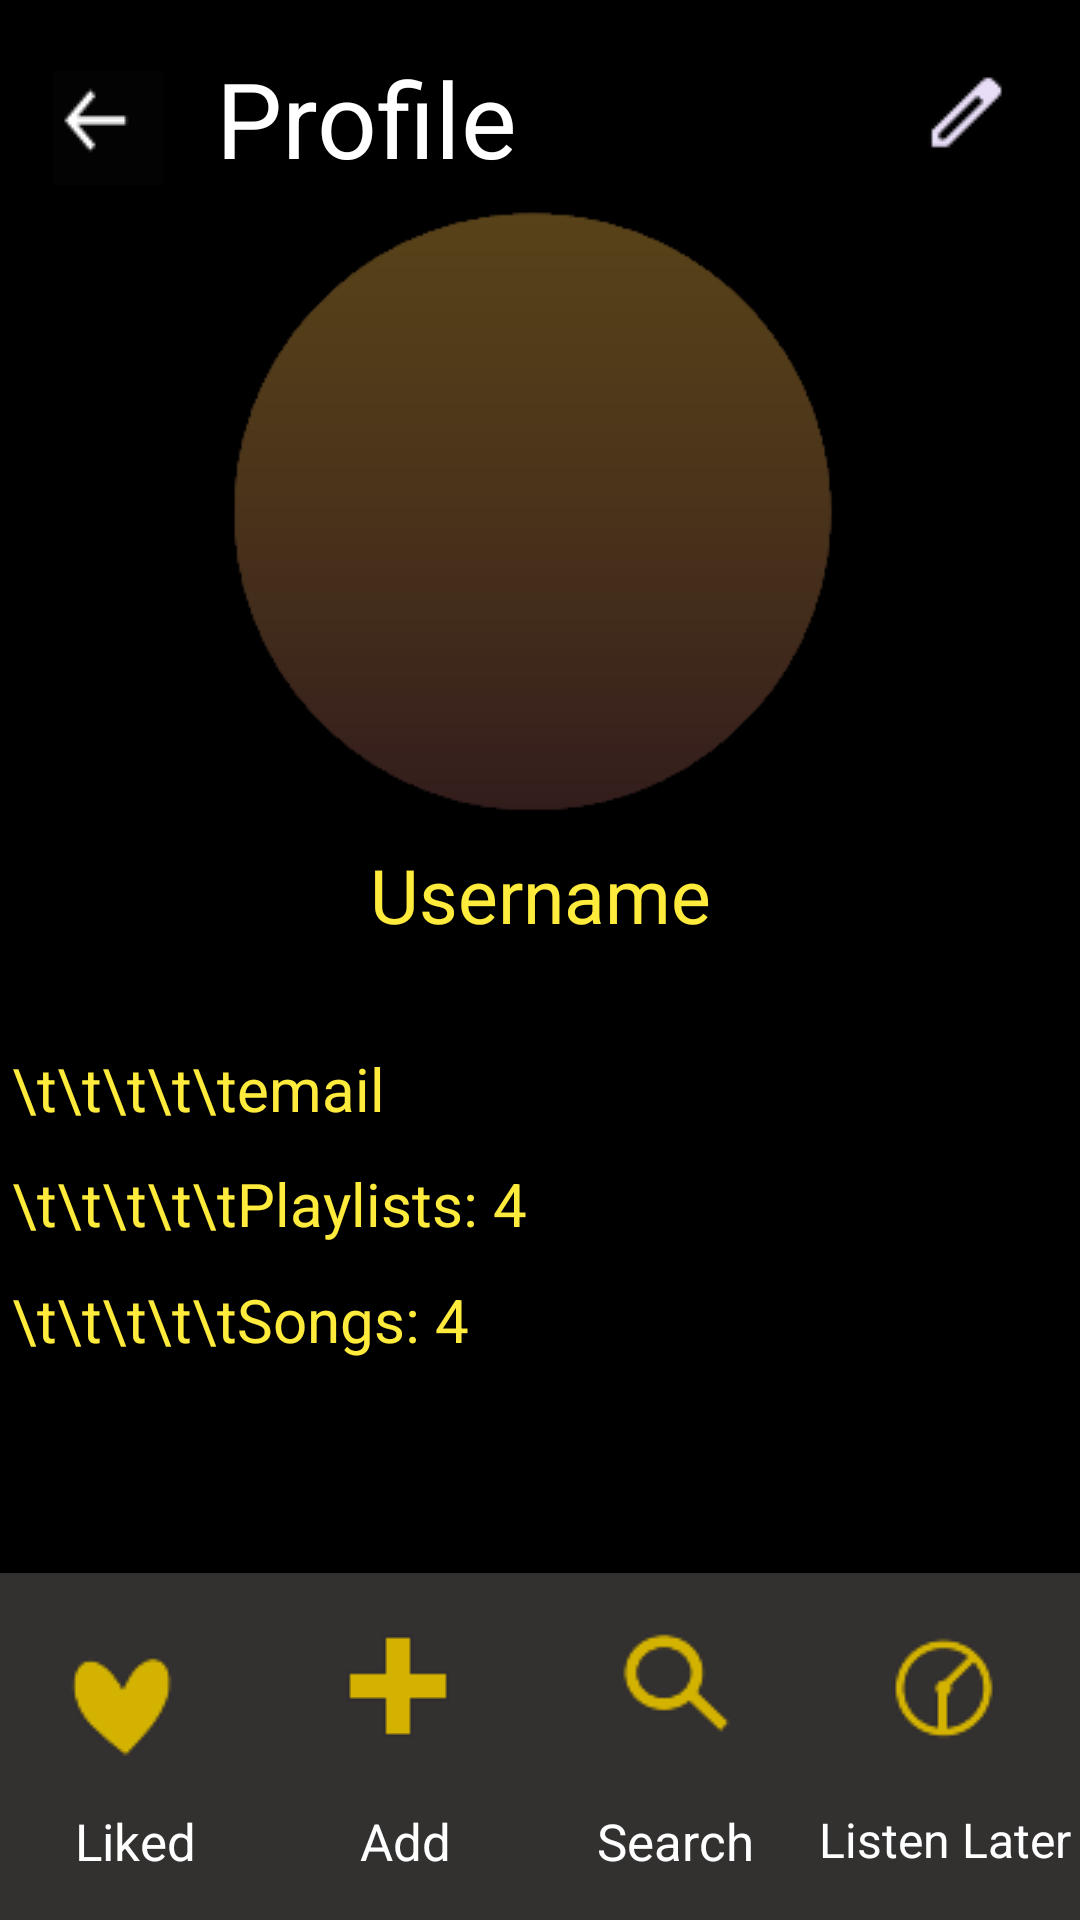

Screen size 1080×1920. Icon name, then its center in pixels as (x,y):
back: (96,120)
edit: (966,112)
